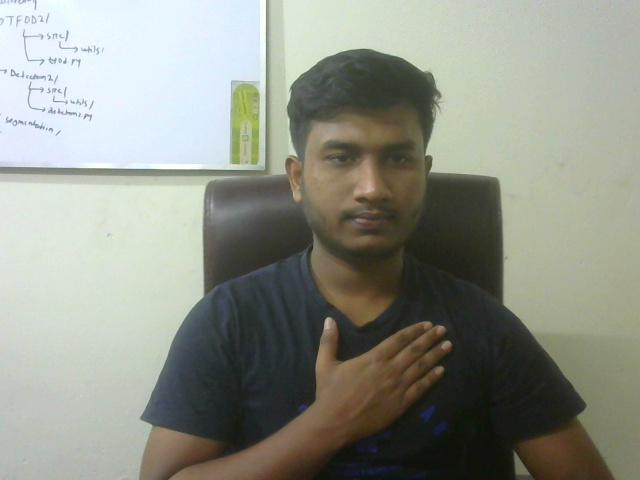Please: (296, 299, 468, 445)
